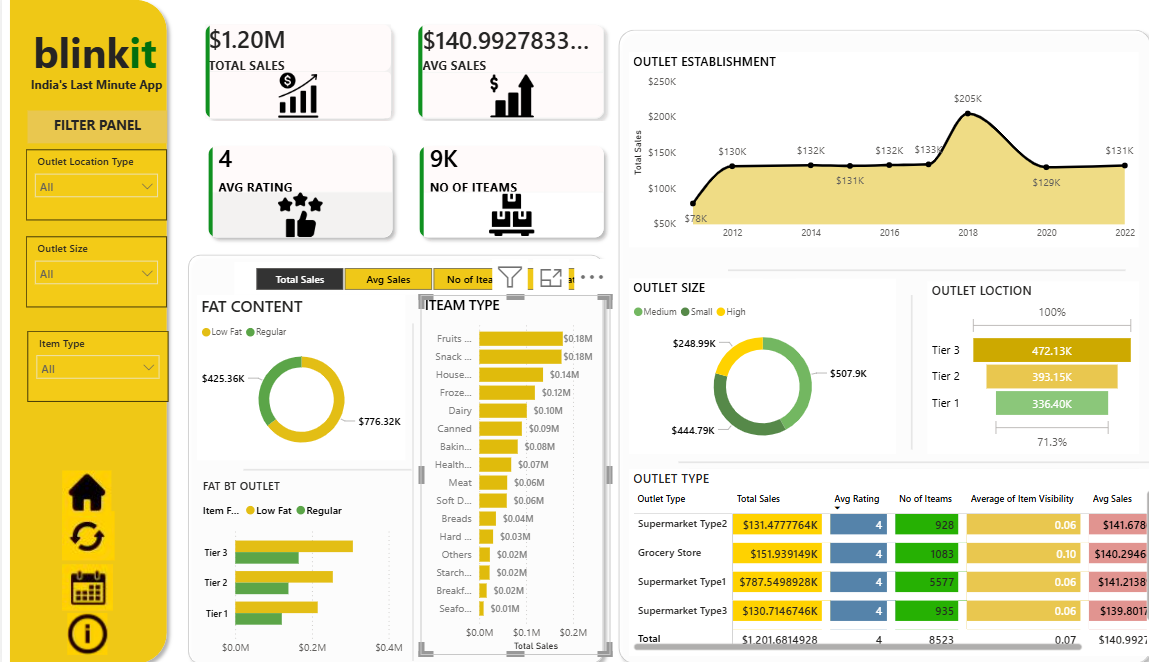

The dashboard page shown, as its layout file describes it:
{"tool":"powerbi","page":{"name":"Page 1","canvas":[1400,800],"ordinal":0},"visuals":[{"type":"shape","box":[0,0,203.2,800.6],"z":0},{"type":"textbox","box":[24.8,31,169.5,78.5],"z":1000},{"type":"textbox","box":[18.6,93,184,31],"z":2000},{"type":"cardVisual","fields":{"Data":["BlinkIT Grocery Data.Total Sales","BlinkIT Grocery Data.Avg Sales"]},"box":[210.3,8.8,528.4,169.7],"z":3000},{"type":"cardVisual","fields":{"Data":["BlinkIT Grocery Data.Avg Rating","BlinkIT Grocery Data.No of Iteams"]},"box":[213.8,152,524.9,166.1],"z":4000},{"type":"shape","box":[210.3,300.4,507.2,500.2],"z":5000},{"type":"donutChart","title":" FAT CONTENT","fields":{"Y":["BlinkIT Grocery Data.Total Sales","BlinkIT Grocery Data.Avg Sales","BlinkIT Grocery Data.No of Iteams","BlinkIT Grocery Data.Avg Rating"],"Category":["BlinkIT Grocery Data.Item Fat Content"]},"box":[229.8,357,245.7,194.4],"z":6000},{"type":"clusteredBarChart","title":"FAT BT OUTLET","fields":{"Y":["BlinkIT Grocery Data.Total Sales"],"Category":["BlinkIT Grocery Data.Outlet Location Type"],"Series":["BlinkIT Grocery Data.Item Fat Content"]},"box":[231.5,572.6,245.7,217.4],"z":8000},{"type":"shape","box":[809.4,551.4,530.2,21.2],"z":9000},{"type":"shape","box":[477.2,392.4,15.9,397.7],"z":10000},{"type":"barChart","title":"ITEAM TYPE","fields":{"Y":["BlinkIT Grocery Data.Total Sales","BlinkIT Grocery Data.Avg Sales","BlinkIT Grocery Data.No of Iteams","BlinkIT Grocery Data.Avg Rating"],"Category":["BlinkIT Grocery Data.Item Type"]},"box":[493.1,357,224.5,424.2],"z":11000},{"type":"shape","box":[717.5,35.3,645.1,765.3],"z":12000},{"type":"lineChart","title":"OUTLET ESTABLISHMENT","fields":{"Y":["BlinkIT Grocery Data.Total Sales"],"Category":["BlinkIT Grocery Data.Outlet Establishment Year"]},"box":[738.8,70.7,600.9,229.8],"z":13000},{"type":"shape","box":[855.4,318.1,468.3,19.4],"z":14000},{"type":"donutChart","title":"OUTLET SIZE","fields":{"Category":["BlinkIT Grocery Data.Outlet Size"],"Y":["BlinkIT Grocery Data.Total Sales"]},"box":[738.8,337.6,314.6,206.8],"z":15000},{"type":"shape","box":[1065.7,357,12.4,182],"z":16000},{"type":"funnel","title":"OUTLET LOCTION","fields":{"Y":["Sum(BlinkIT Grocery Data.Sales)"],"Category":["BlinkIT Grocery Data.Outlet Location Type"]},"box":[1090.5,341.1,249.2,203.2],"z":17000},{"type":"shape","box":[266.9,553.2,197.9,19.4],"z":18000},{"type":"shape","box":[797.1,544.3,554.9,19.4],"z":19000},{"type":"pivotTable","title":"OUTLET TYPE","fields":{"Rows":["BlinkIT Grocery Data.Outlet Type"],"Values":["BlinkIT Grocery Data.Total Sales","BlinkIT Grocery Data.Avg Rating","BlinkIT Grocery Data.No of Iteams","Avg(BlinkIT Grocery Data.Item Visibility)","BlinkIT Grocery Data.Avg Sales"]},"box":[738.8,562,623.9,219.2],"z":20000},{"type":"slicer","fields":{"Values":["BlinkIT Grocery Data.Outlet Location Type"]},"box":[28.3,185.6,166.1,83.1],"z":21000},{"type":"slicer","fields":{"Values":["BlinkIT Grocery Data.Outlet Size"]},"box":[28.3,288.1,166.1,83.1],"z":22000},{"type":"slicer","fields":{"Values":["BlinkIT Grocery Data.Item Type"]},"box":[30,399.4,166.1,83.1],"z":23000},{"type":"textbox","box":[30,139.6,164.4,38.9],"z":24000},{"type":"image","box":[68.9,708.7,67.2,81.3],"z":24004},{"type":"image","box":[68.9,645.1,67.2,74.2],"z":24005},{"type":"image","box":[67.2,581.5,61.9,63.6],"z":24008},{"type":"image","box":[63.6,521.4,70.7,61.9],"z":24009}]}

Visuals, with their boxes in screenshot pixels (x1, y1, x2, y2), scaled from the page's 1400x800 canvas onto the 1149x662 screenshot:
shape: crop(0, 0, 167, 661)
textbox: crop(20, 26, 159, 91)
textbox: crop(15, 77, 166, 103)
cardVisual - BlinkIT Grocery Data.Total Sales x BlinkIT Grocery Data.Avg Sales: crop(173, 7, 606, 148)
cardVisual - BlinkIT Grocery Data.Avg Rating x BlinkIT Grocery Data.No of Iteams: crop(175, 126, 606, 263)
shape: crop(173, 249, 589, 661)
" FAT CONTENT" donutChart: crop(189, 295, 390, 456)
"FAT BT OUTLET" clusteredBarChart: crop(190, 474, 392, 654)
shape: crop(664, 456, 1099, 474)
shape: crop(392, 325, 405, 654)
"ITEAM TYPE" barChart: crop(405, 295, 589, 646)
shape: crop(589, 29, 1118, 661)
"OUTLET ESTABLISHMENT" lineChart: crop(606, 59, 1100, 249)
shape: crop(702, 263, 1086, 279)
"OUTLET SIZE" donutChart: crop(606, 279, 865, 450)
shape: crop(875, 295, 885, 446)
"OUTLET LOCTION" funnel: crop(895, 282, 1100, 450)
shape: crop(219, 458, 381, 474)
shape: crop(654, 450, 1110, 466)
"OUTLET TYPE" pivotTable: crop(606, 465, 1118, 646)
slicer - BlinkIT Grocery Data.Outlet Location Type: crop(23, 154, 160, 222)
slicer - BlinkIT Grocery Data.Outlet Size: crop(23, 238, 160, 307)
slicer - BlinkIT Grocery Data.Item Type: crop(25, 331, 161, 399)
textbox: crop(25, 116, 160, 148)
image: crop(57, 586, 112, 654)
image: crop(57, 534, 112, 595)
image: crop(55, 481, 106, 534)
image: crop(52, 431, 110, 483)
